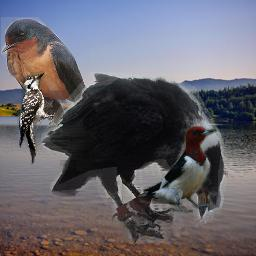Crow: (41, 72, 228, 244)
Swallow: (1, 17, 134, 151)
Woodpecker: (138, 126, 218, 213), (16, 70, 54, 166)
